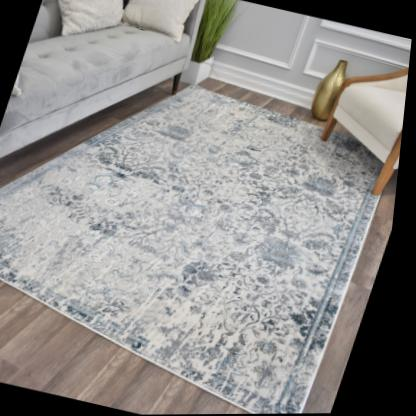Carpet: (0, 82, 402, 414)
